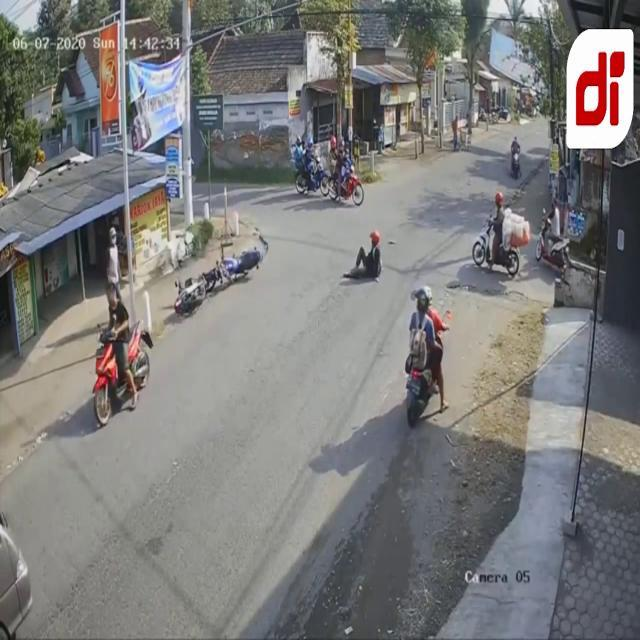multiple_accident: (155, 202, 267, 340)
normal: (387, 285, 493, 433), (96, 260, 167, 439)
